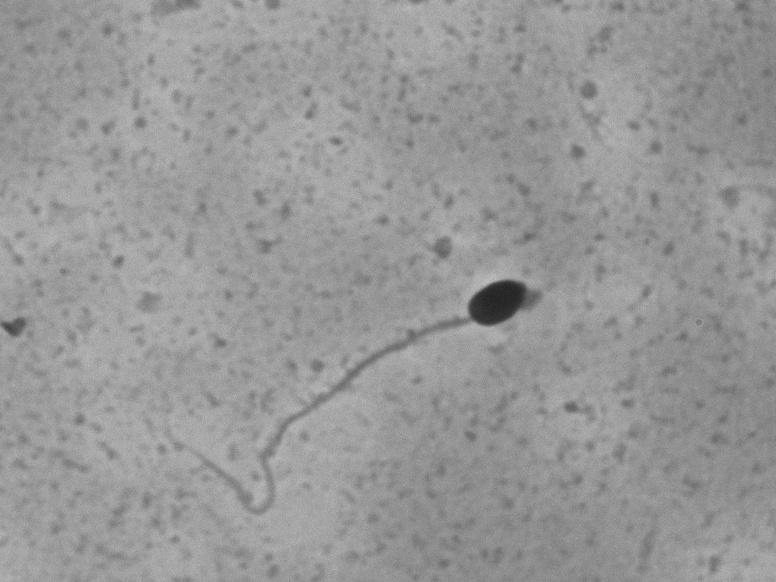Abnormal: (159, 264, 545, 525)
